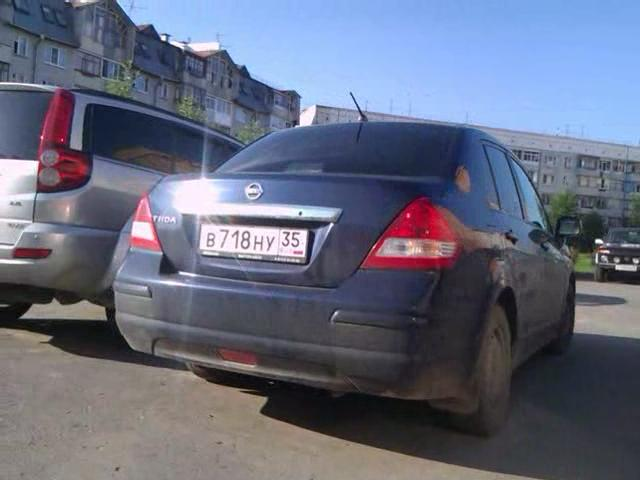car license plate: (198, 212, 311, 265)
